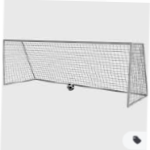goals: (1, 37, 150, 109)
